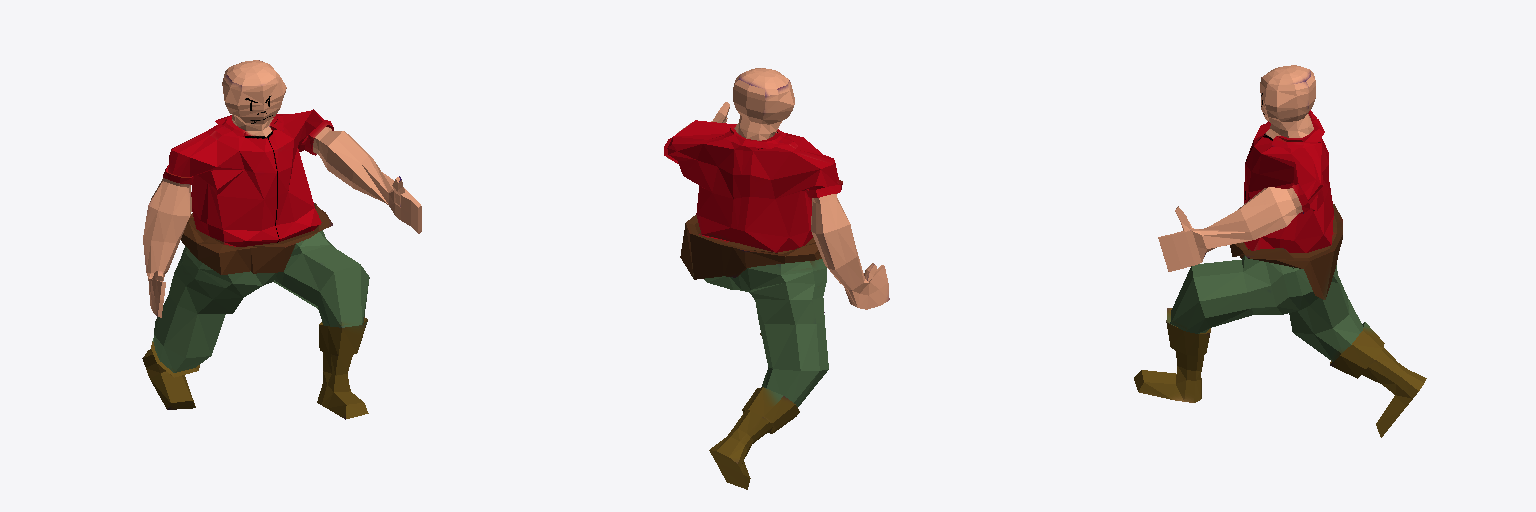
The picture shows the model from 3 angles: view 1: azimuth 30°, elevation 25°; view 2: azimuth 150°, elevation 25°; view 3: azimuth 270°, elevation 25°; orthographic projection.
Parts seen in each view (by area): view 1: Default_Body_Cube; view 2: Default_Body_Cube; view 3: Default_Body_Cube.
Part boxes in pixels (x1,y1,x2,y2): Default_Body_Cube: (142,60,421,419); Default_Body_Cube: (664,68,889,489); Default_Body_Cube: (1134,65,1426,437).
Bounding box in the file's own units: 4.58 × 7.43 × 5.28.
1 materials, 1 textured.